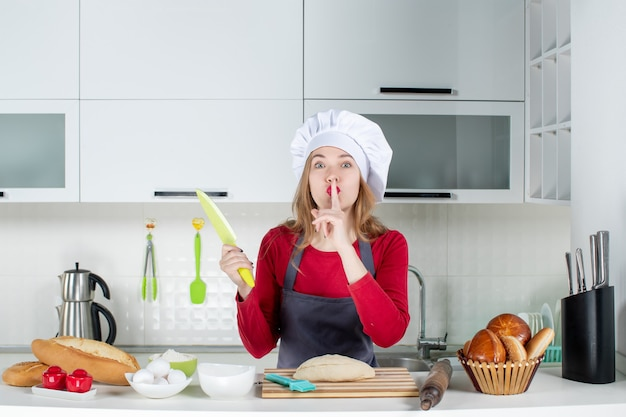knife: (193, 189, 242, 250)
